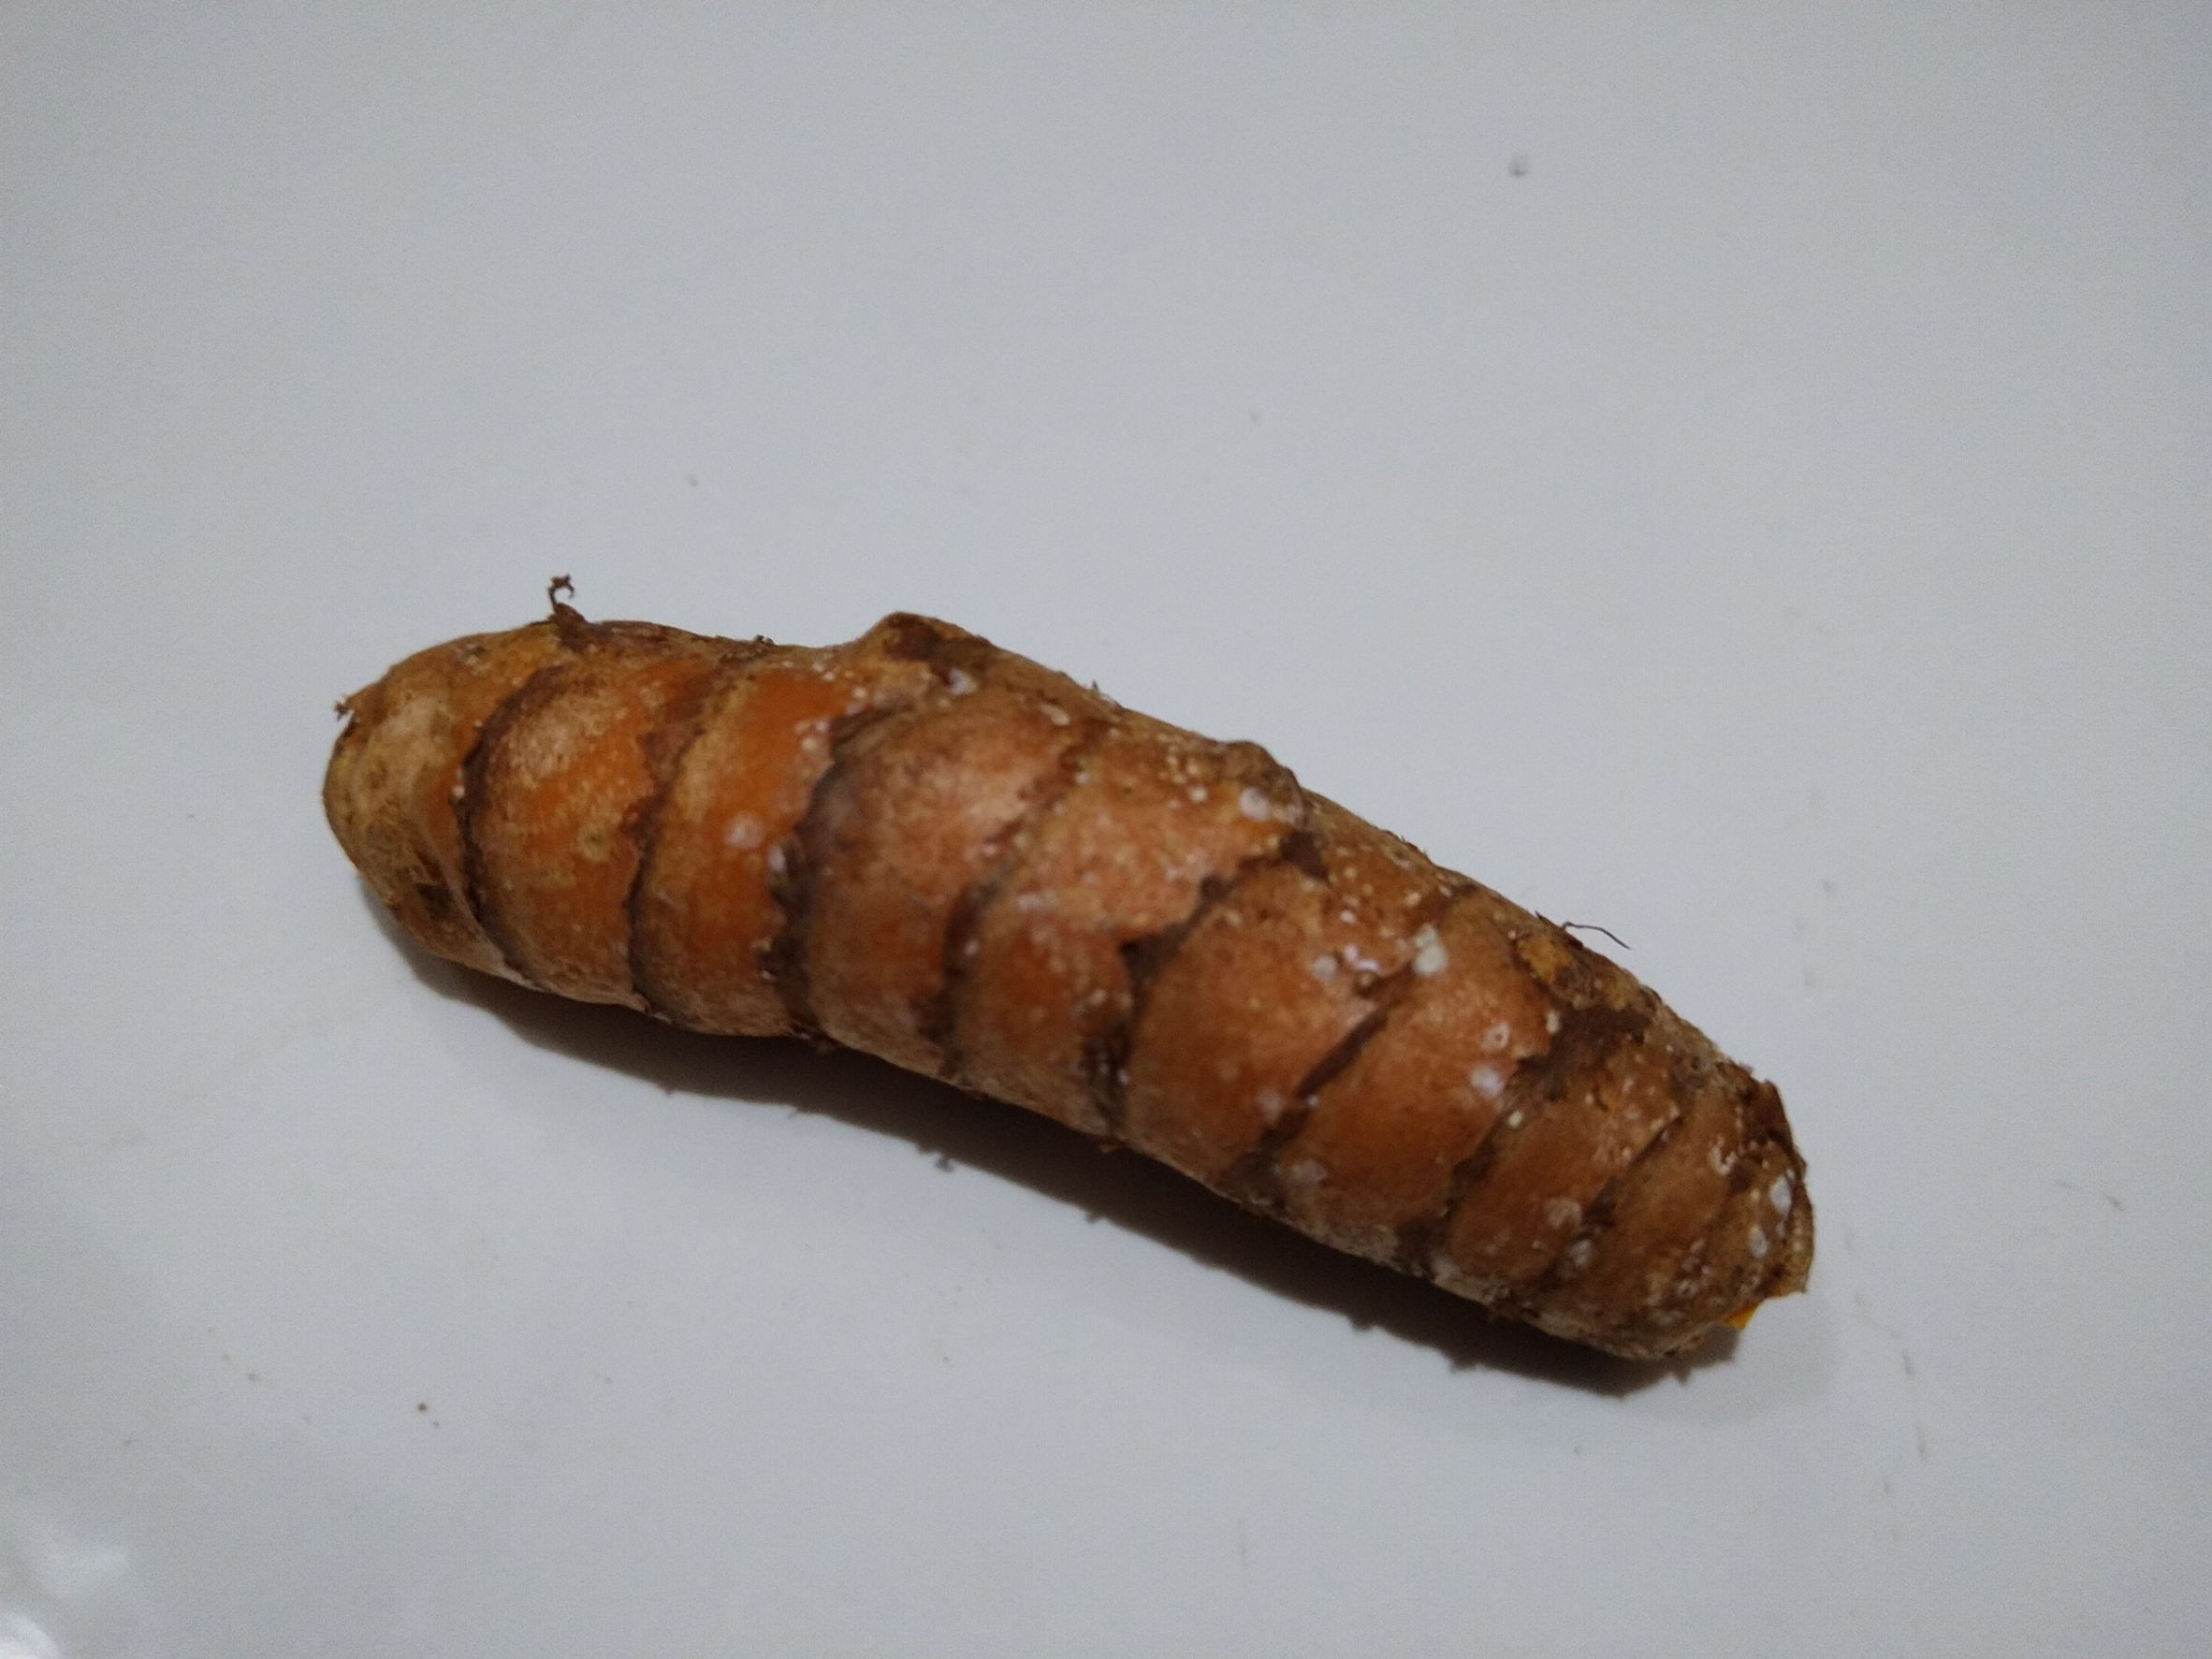Kunyit: (322, 619, 1808, 1403)
